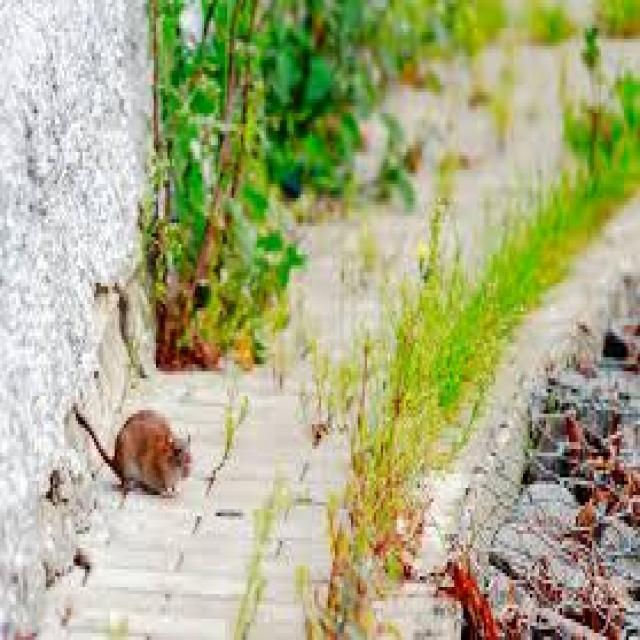Rat: (41, 346, 213, 511)
